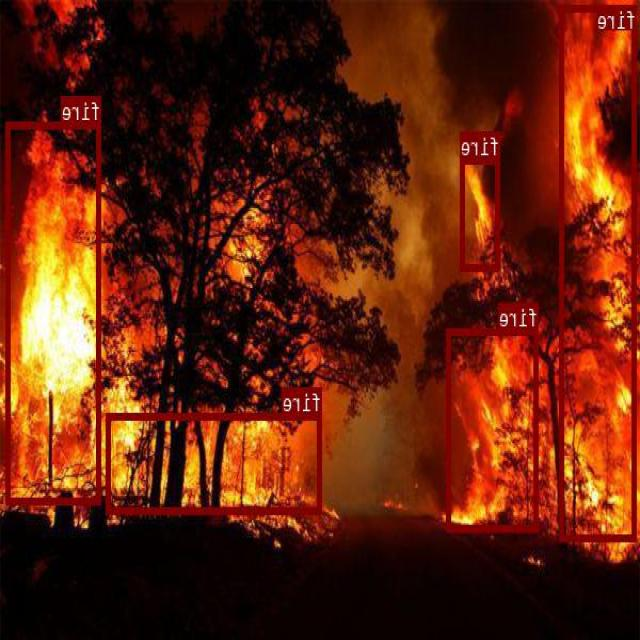fire: (560, 4, 638, 539), (7, 121, 102, 504), (108, 412, 322, 512), (448, 328, 539, 530), (462, 156, 501, 270)
